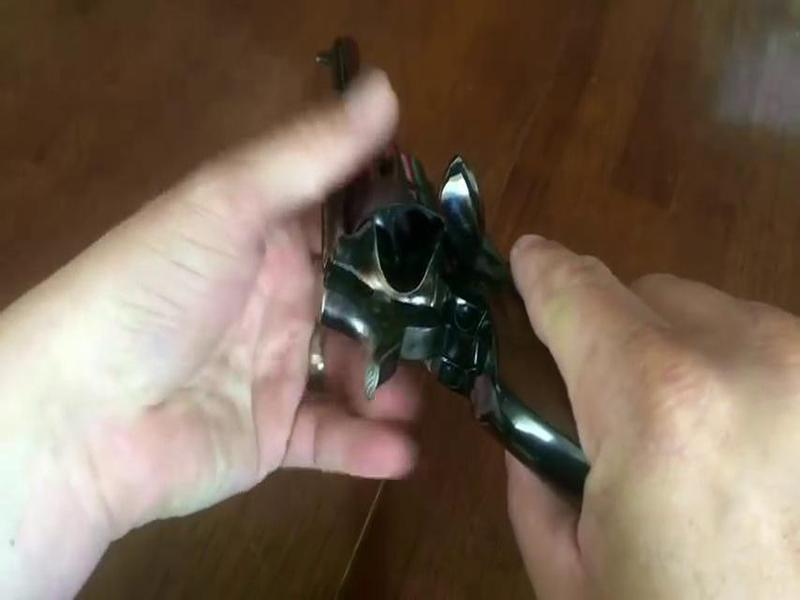Revolver: (297, 16, 574, 463)
